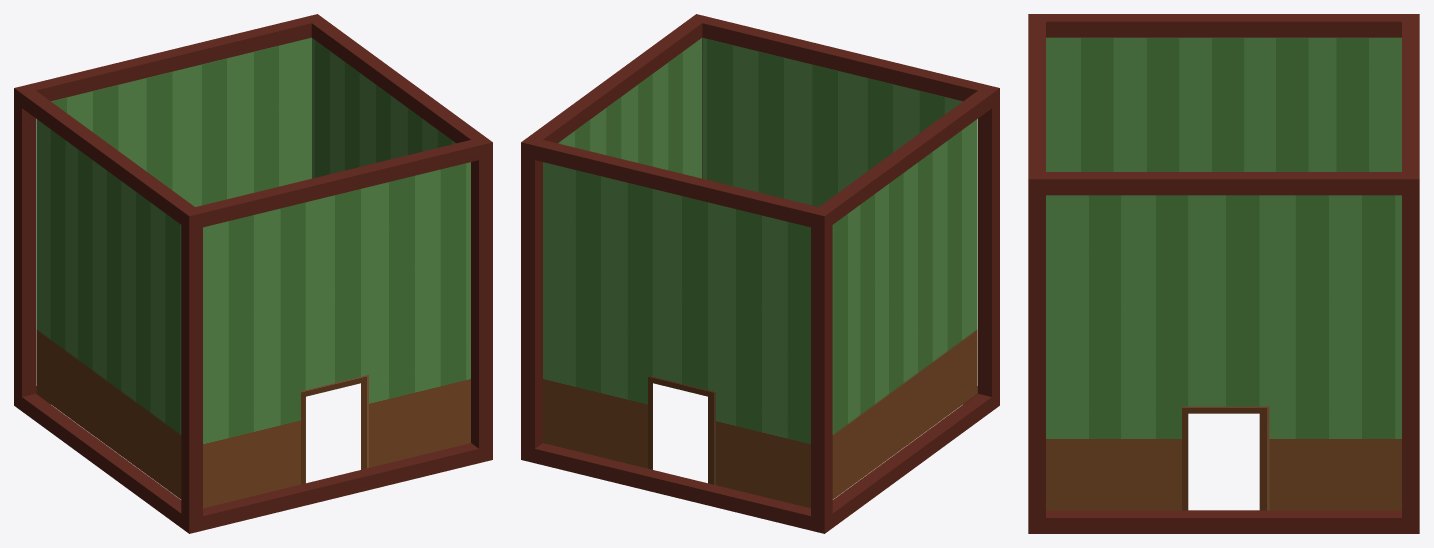
The model's file is stage01_02.fbx.
The picture shows the model from 3 angles, left to right: view 1: azimuth 30°, elevation 25°; view 2: azimuth 150°, elevation 25°; view 3: azimuth 270°, elevation 25°; orthographic projection. The views are drawn at different scales.
Visible parts, largest first — view 1: wall03, baezel, wall04, wall01, wall02; view 2: wall01, baezel, wall04, wall03, wall02; view 3: wall02, wall04, baezel.
Boxes of the visible parts, x1,y1,x2,y2 form: wall03: (203,162,470,508); baezel: (14,14,492,533); wall04: (36,119,181,499); wall01: (51,37,311,206); wall02: (312,38,455,178); wall01: (543,162,810,508); baezel: (521,14,999,533); wall04: (832,119,977,499); wall03: (702,37,962,206); wall02: (558,38,701,178); wall02: (1046,195,1401,510); wall04: (1046,37,1401,171); baezel: (1028,14,1419,533).
Bounding box in the file's own units: 220 × 220 × 220.
